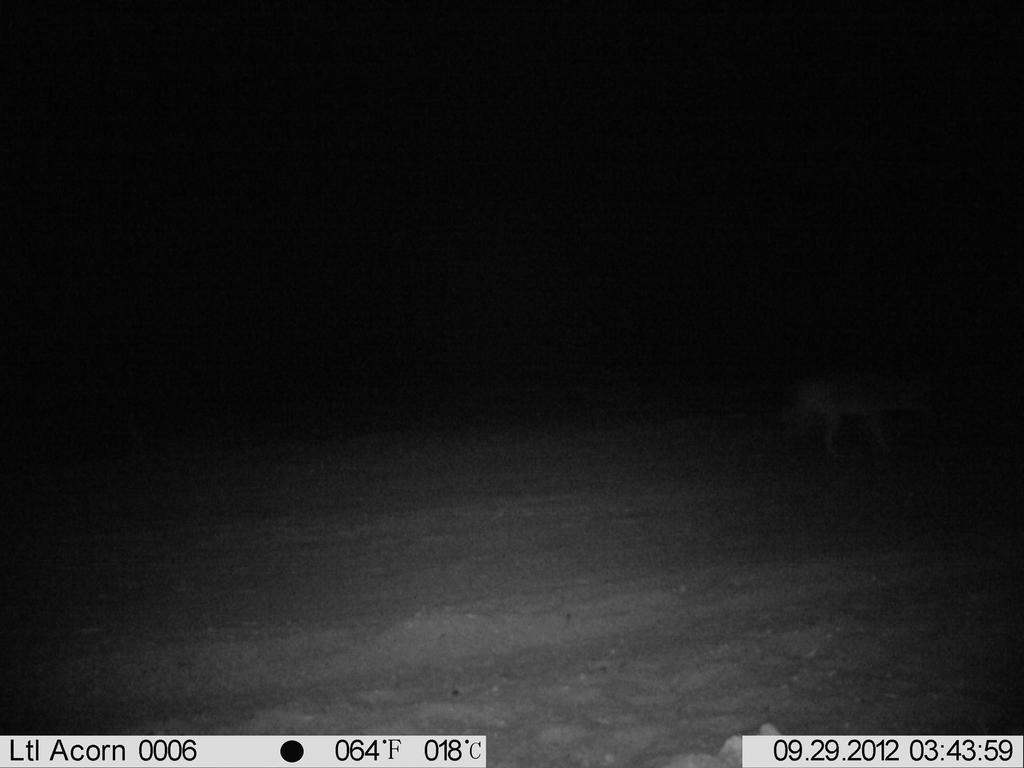coyote: (783, 336, 961, 471)
